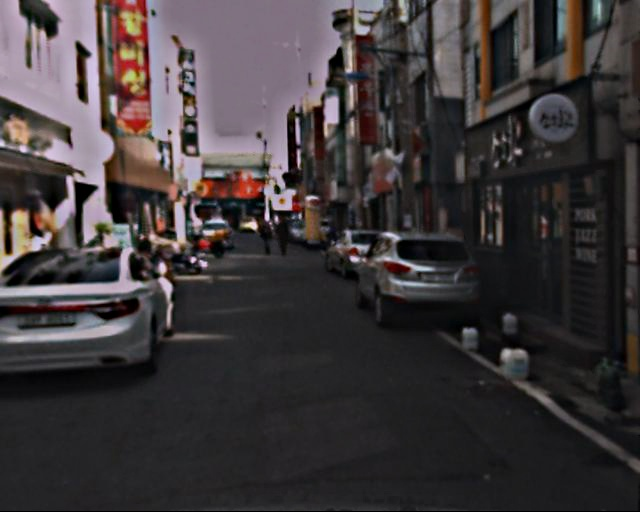person: (275, 217, 292, 259), (259, 219, 275, 258)
